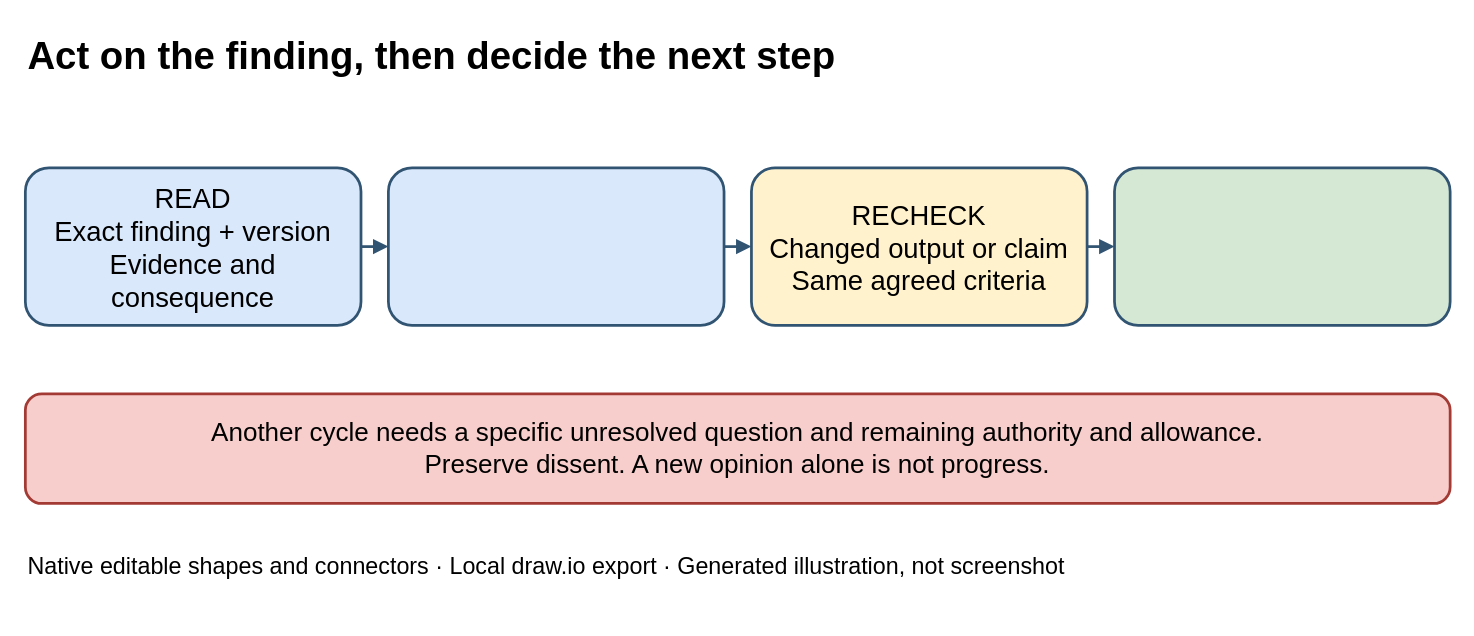
The diagram is 1474 pixels wide and 636 high, and some of its shapes have lost their labels. Here are the shapes that lost their labels. From the top down, the centre of each, then its label:
At point (555, 246): "RESPOND Correct or disagree Clarify or escalate".
At point (1281, 246): "DECIDE Finish, block or stop Another useful cycle?".
